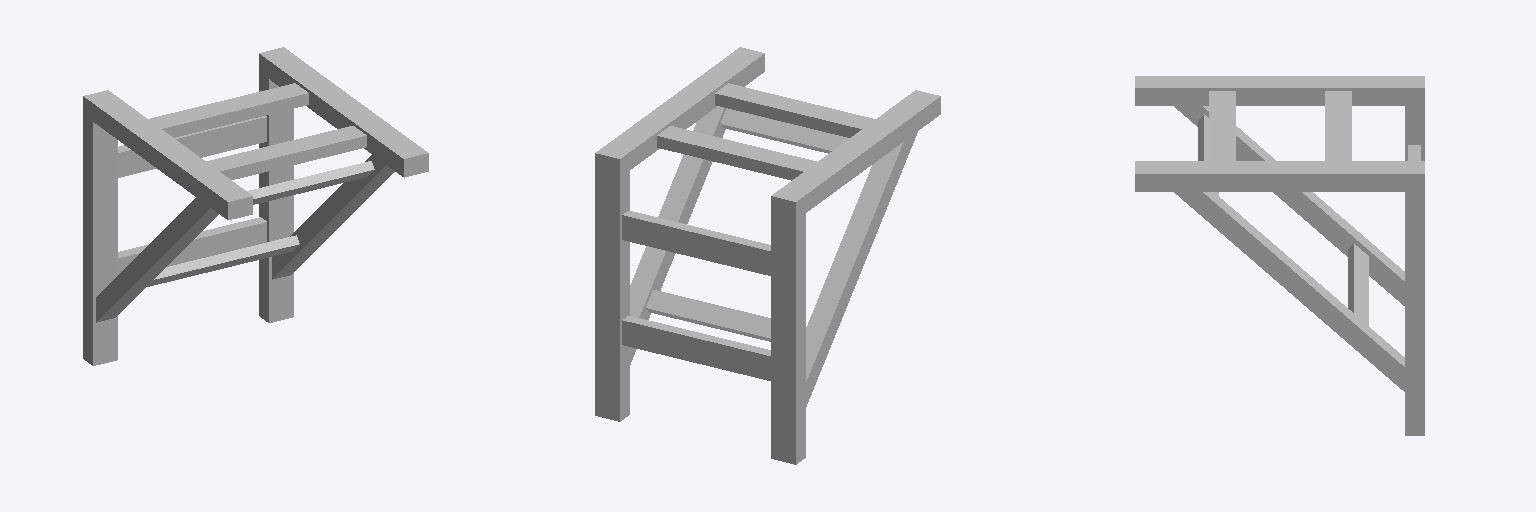
Rendered from woodsupportz-.obj.
The picture shows the model from 3 angles: view 1: azimuth 30°, elevation 25°; view 2: azimuth 150°, elevation 25°; view 3: azimuth 270°, elevation 25°; orthographic projection.
Visible parts, largest first — view 1: bedx+; view 2: bedx+; view 3: bedx+.
Boxes of the visible parts, x1,y1,x2,y2 form: bedx+: [83, 47, 428, 365]; bedx+: [595, 47, 940, 464]; bedx+: [1135, 76, 1424, 435].
Size of the model in its own units: 0.8 by 1 by 1.